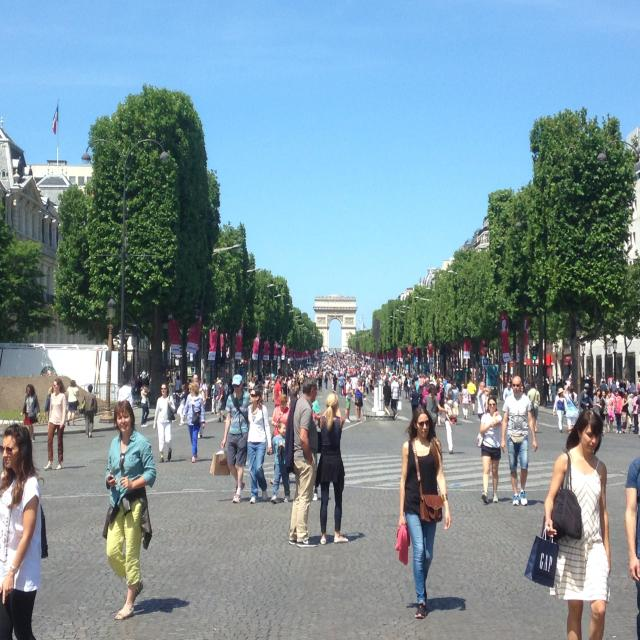body: (543, 408, 611, 640), (102, 399, 157, 621), (395, 406, 452, 620), (0, 422, 49, 640), (283, 375, 319, 548), (220, 374, 263, 504), (315, 393, 349, 545), (501, 375, 538, 507), (268, 347, 409, 377), (246, 388, 272, 505), (624, 453, 640, 640), (476, 395, 503, 505), (43, 378, 67, 470), (181, 382, 206, 463), (266, 420, 290, 504), (152, 382, 175, 463), (20, 383, 41, 443), (579, 376, 640, 395), (425, 384, 449, 431), (270, 393, 290, 448), (409, 365, 450, 390), (80, 384, 98, 438), (444, 390, 459, 454), (563, 385, 580, 436), (526, 381, 541, 433), (451, 358, 486, 380), (552, 387, 568, 434), (172, 384, 188, 426), (498, 367, 540, 383), (542, 370, 576, 388), (66, 379, 79, 426), (117, 377, 133, 409), (216, 379, 227, 423), (613, 387, 623, 434), (354, 377, 364, 422), (140, 384, 150, 428), (390, 376, 400, 420), (461, 382, 472, 420), (580, 383, 593, 414), (288, 377, 300, 409), (466, 377, 476, 415), (209, 377, 219, 415), (477, 381, 486, 423), (382, 379, 392, 416), (345, 375, 352, 423), (606, 391, 614, 433), (410, 386, 421, 416), (632, 389, 639, 434), (193, 374, 204, 402), (600, 390, 607, 434), (436, 383, 443, 426), (199, 378, 208, 408), (45, 386, 52, 424), (274, 375, 282, 408), (363, 378, 377, 396), (593, 388, 602, 415), (221, 374, 233, 394), (540, 388, 555, 404), (245, 374, 260, 389), (136, 369, 150, 384), (503, 383, 514, 402), (622, 391, 630, 417), (263, 375, 270, 403), (338, 373, 346, 396), (636, 394, 640, 437), (174, 375, 180, 403), (452, 382, 459, 404), (627, 393, 634, 415), (165, 369, 174, 386), (281, 376, 288, 395), (270, 376, 275, 402), (398, 377, 404, 398), (404, 376, 409, 399), (332, 373, 338, 392), (611, 392, 615, 418), (139, 384, 149, 394), (521, 384, 530, 394), (318, 373, 322, 392), (351, 376, 357, 388), (421, 390, 425, 408), (174, 369, 181, 379), (324, 372, 328, 389), (296, 377, 304, 385), (456, 381, 464, 389), (485, 387, 492, 396), (329, 377, 333, 386), (287, 376, 290, 388), (338, 377, 340, 395), (421, 390, 428, 395), (378, 377, 383, 383), (445, 389, 448, 398), (389, 377, 392, 385), (344, 378, 348, 383), (627, 395, 631, 400), (188, 378, 192, 383), (207, 383, 209, 389), (385, 377, 389, 380), (396, 377, 398, 382), (408, 377, 409, 387), (510, 383, 512, 388)
